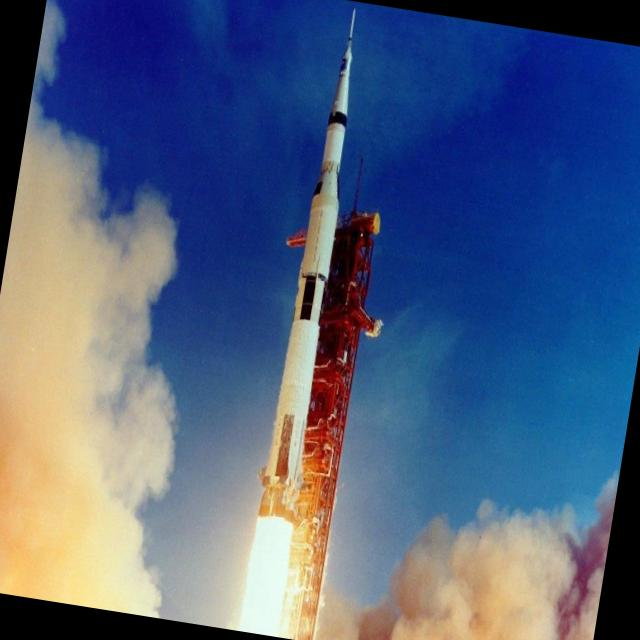rocket: (240, 6, 372, 568)
